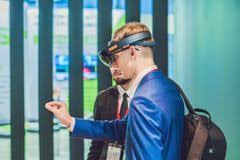hololens: (96, 31, 155, 66)
